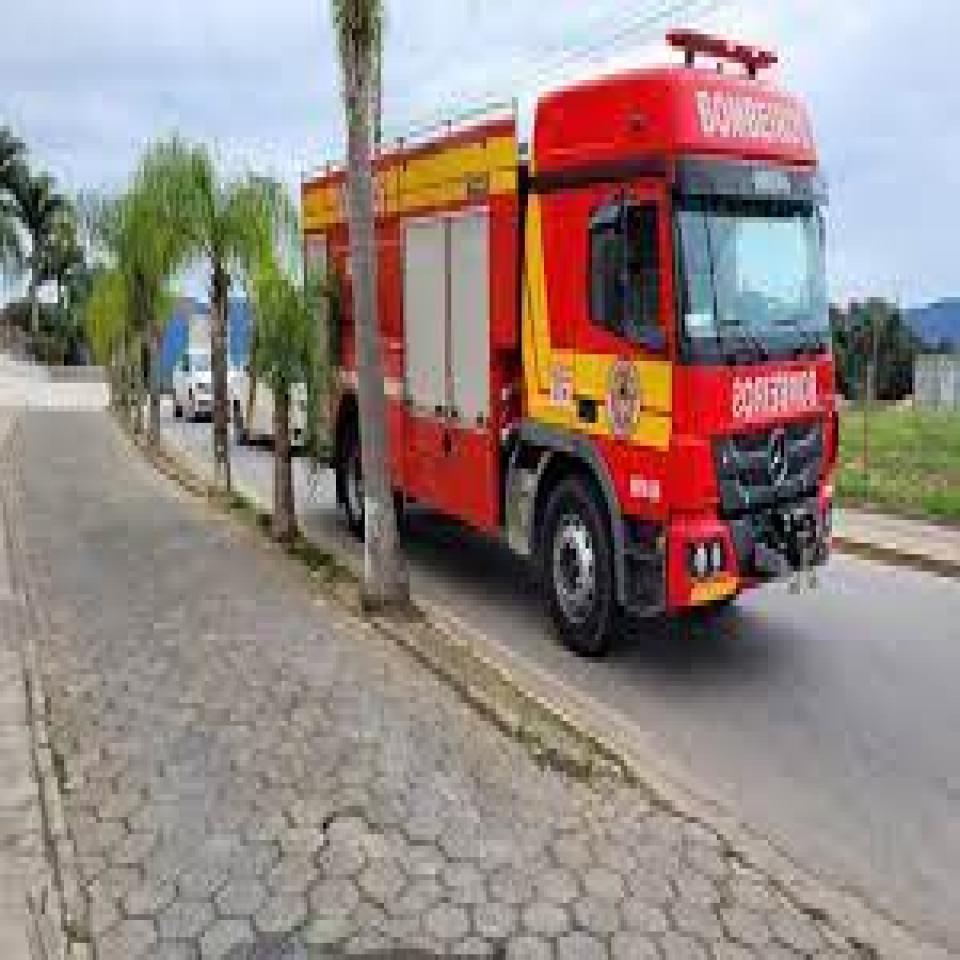viatura: (300, 27, 844, 668)
